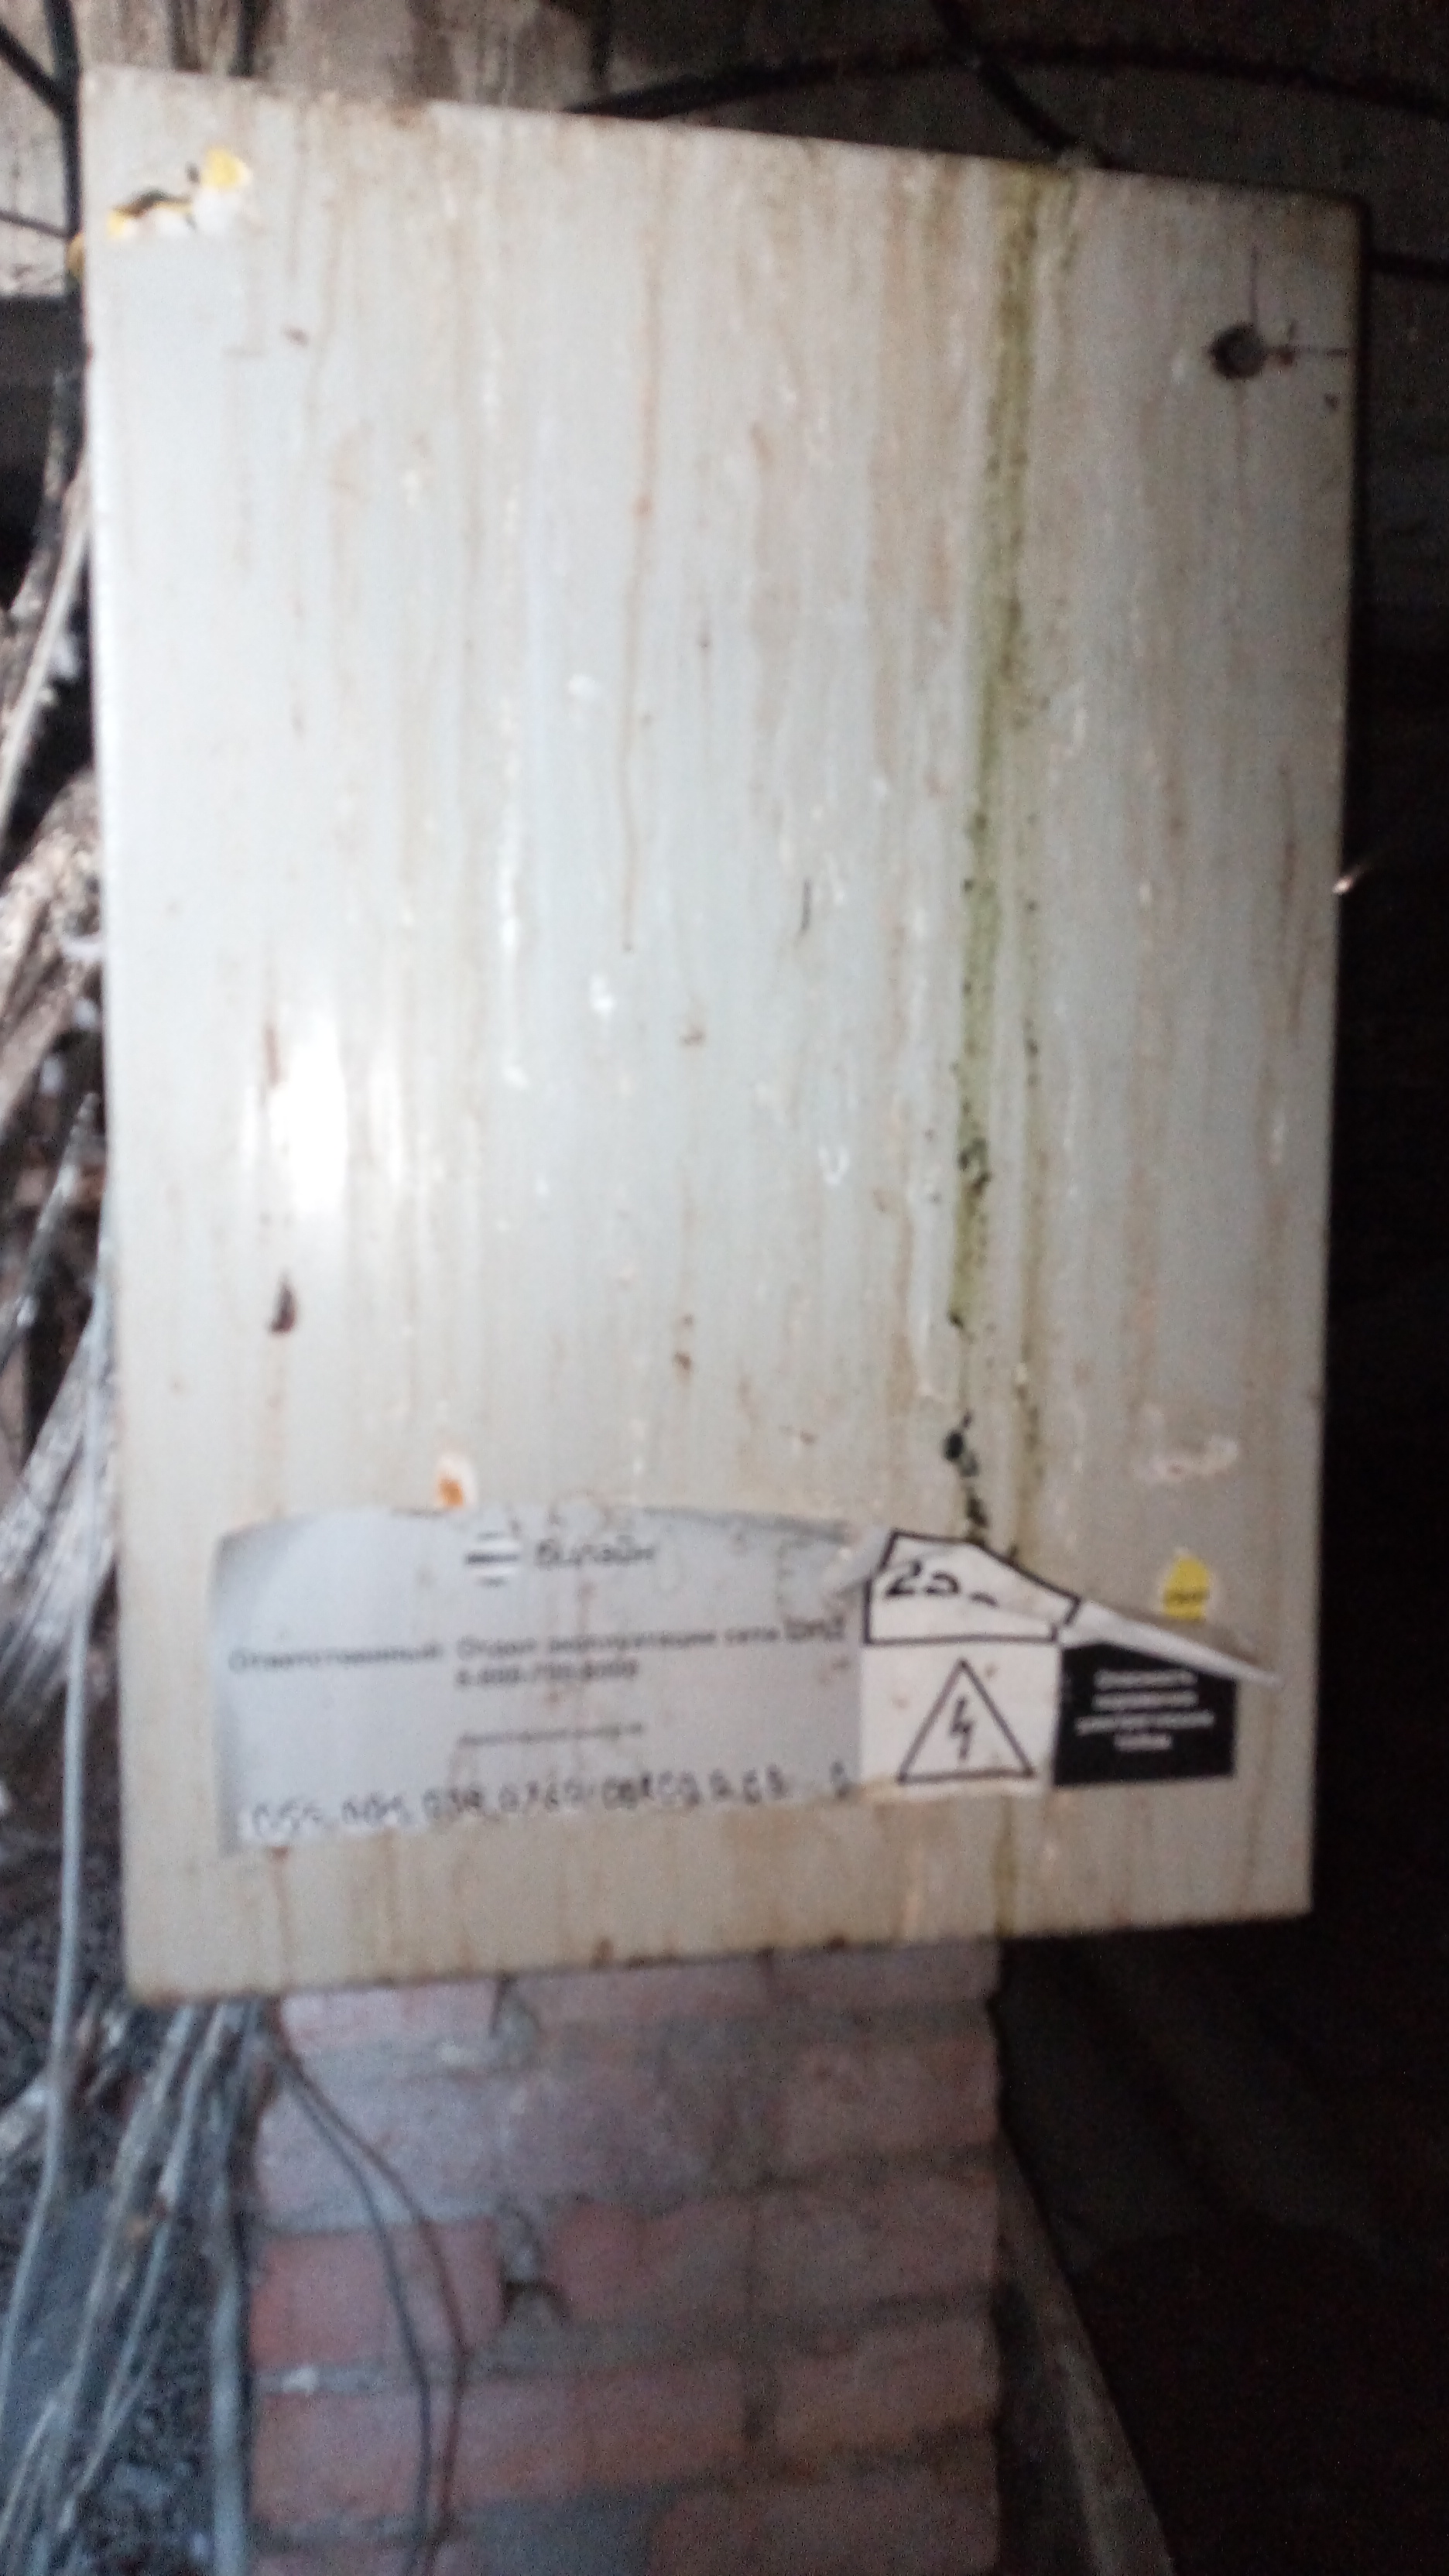sv-5: (55, 37, 1382, 2024)
